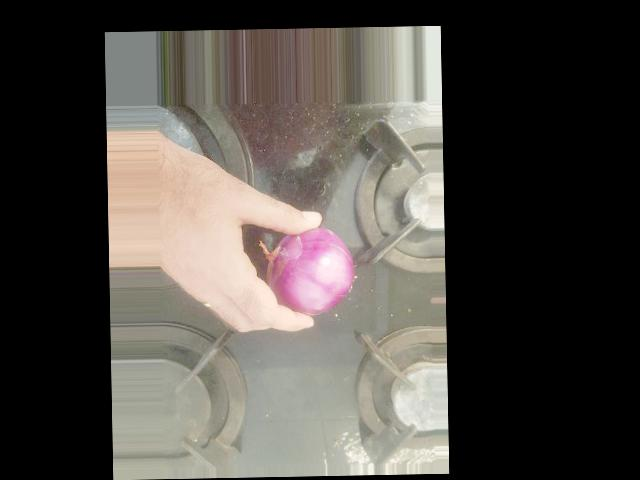onion: (311, 304, 401, 388)
